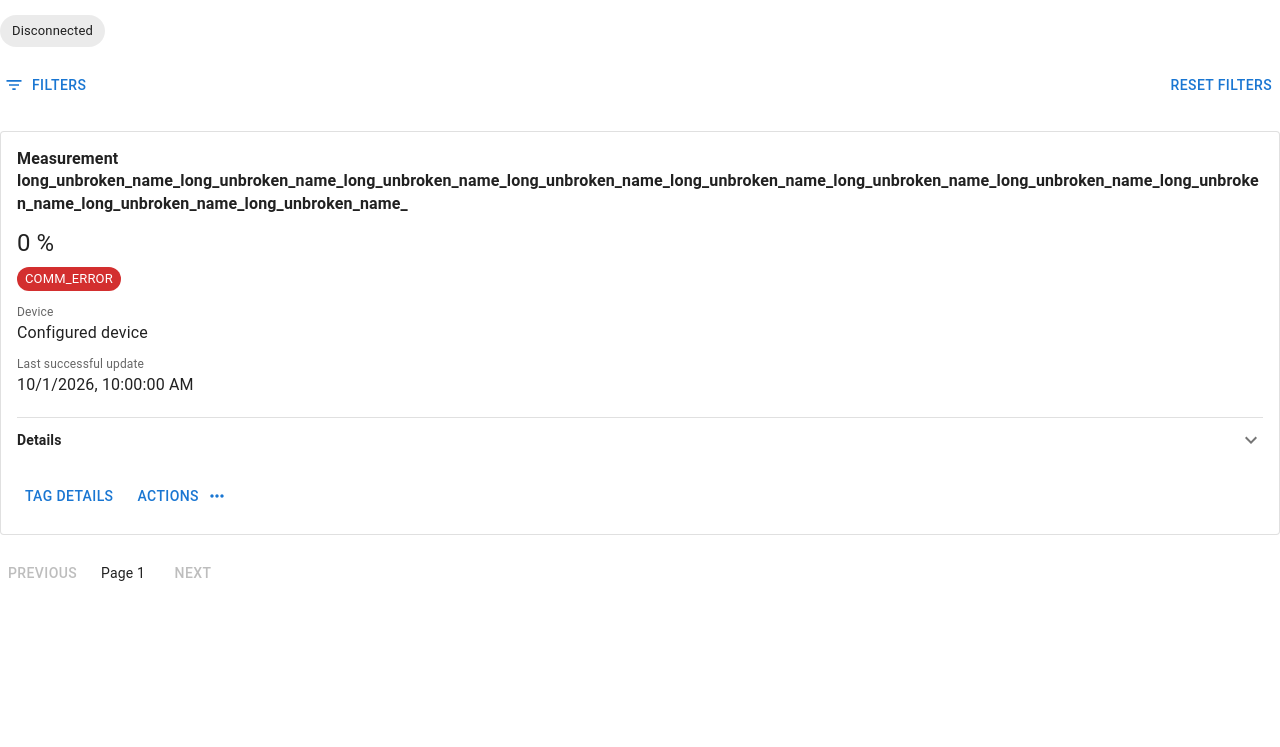
it: responsive data views › updates the same mobile tag card from the shared live subscription
The image size is (1280, 747).
expect the text "COMM_ERROR" is shown: met, box left=25, top=271, right=113, bottom=286
expect the text "0" is shown: met, box left=17, top=229, right=30, bottom=257
Click the button "Details". click: {"x": 39, "y": 440}
box: left=17, top=418, right=1263, bottom=462
(page scrolled)
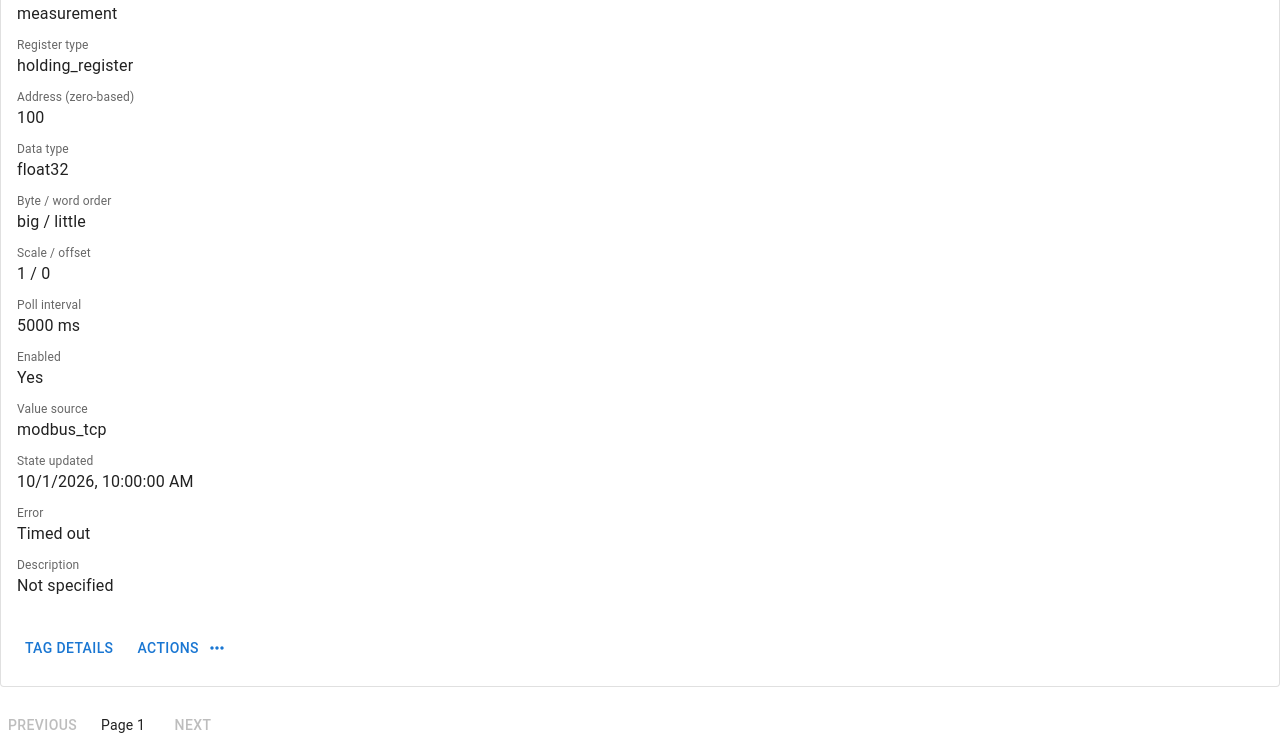
expect the text "Timed out" is shown: met, box left=17, top=524, right=90, bottom=543
